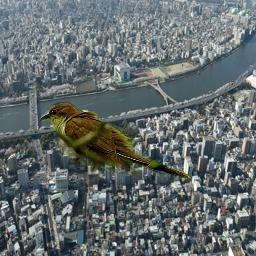Cuckoo: (39, 101, 192, 180)
